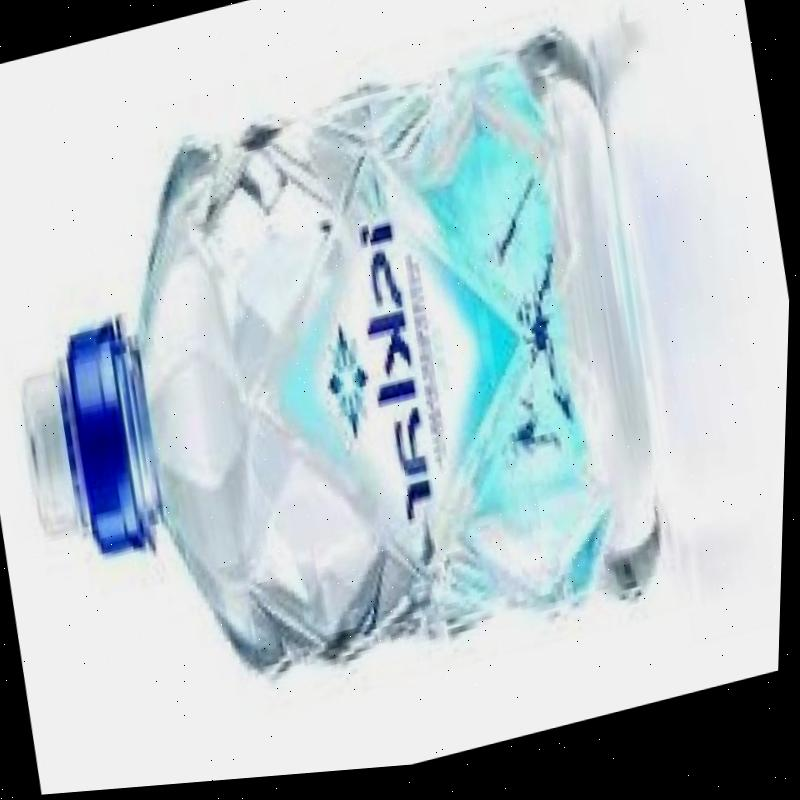botella: (0, 42, 696, 748)
